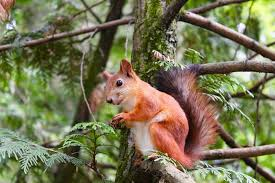Ardilla: (100, 61, 198, 169)
